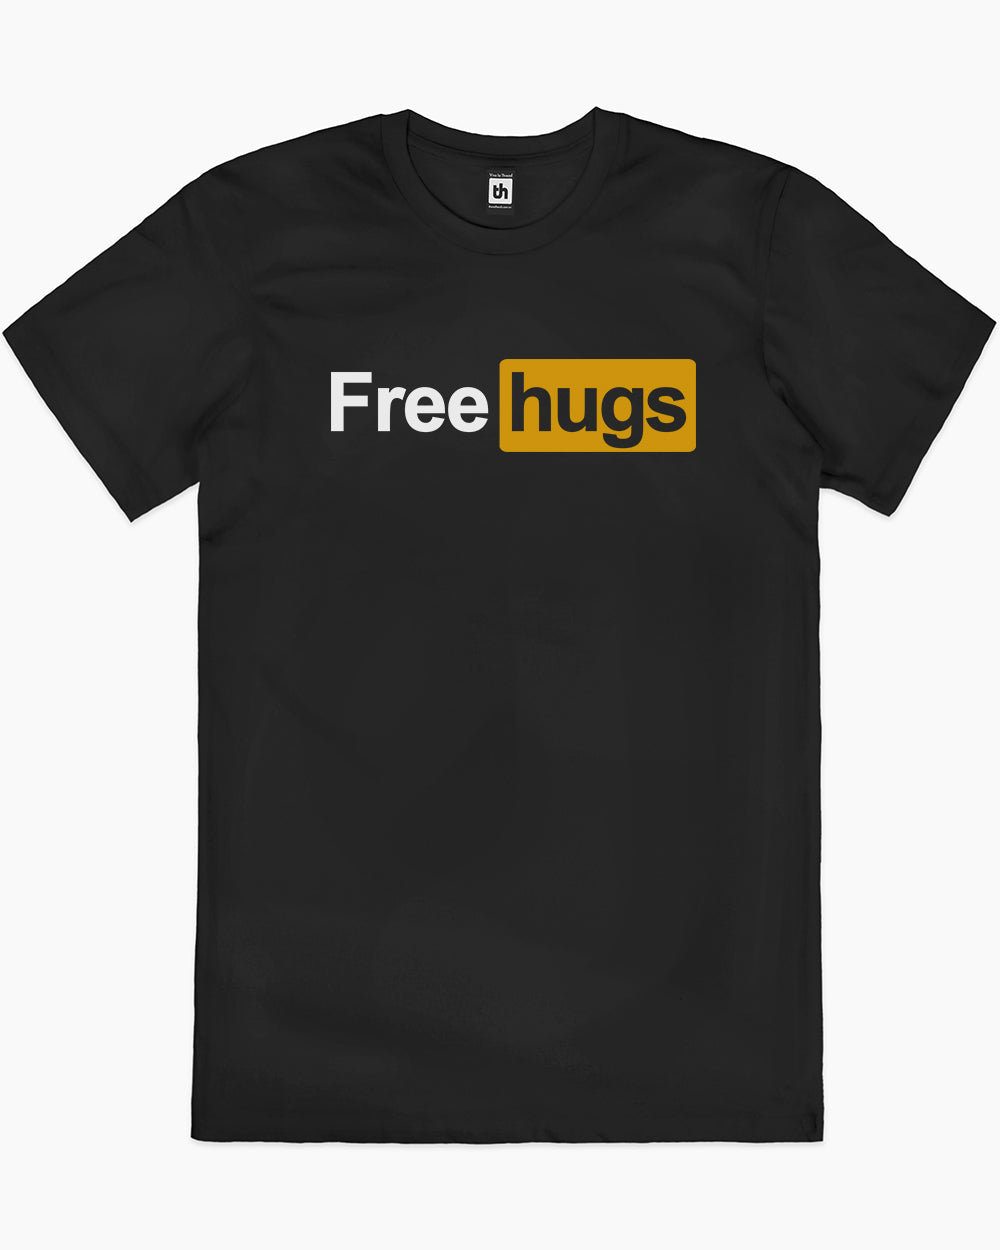design: (324, 351, 702, 457)
